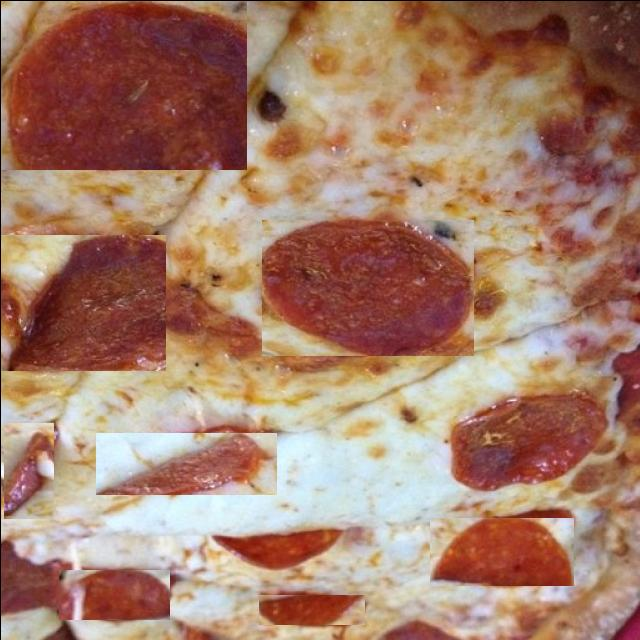pepperoni: (0, 0, 246, 169), (261, 219, 473, 355), (0, 234, 165, 370), (452, 394, 610, 491), (95, 432, 276, 494), (429, 517, 573, 585), (58, 569, 169, 619), (210, 532, 337, 570), (3, 422, 53, 518), (258, 594, 364, 624), (0, 556, 50, 608)
pizza: (0, 0, 640, 640)
